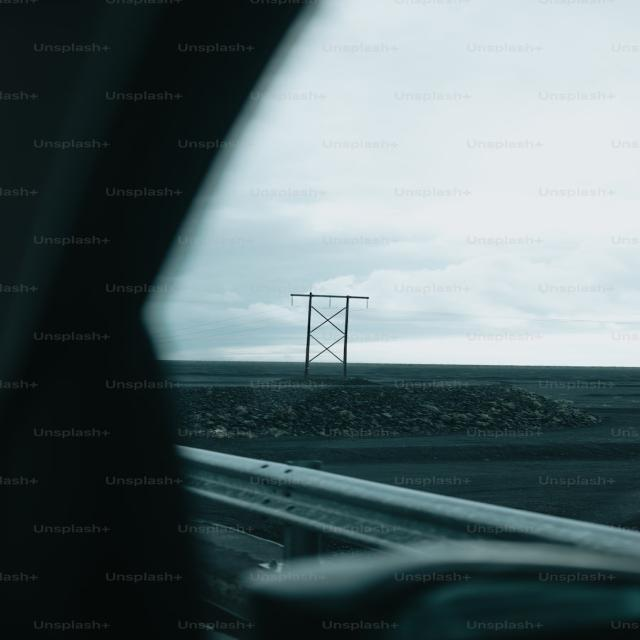transmission tower: (256, 262, 414, 392)
